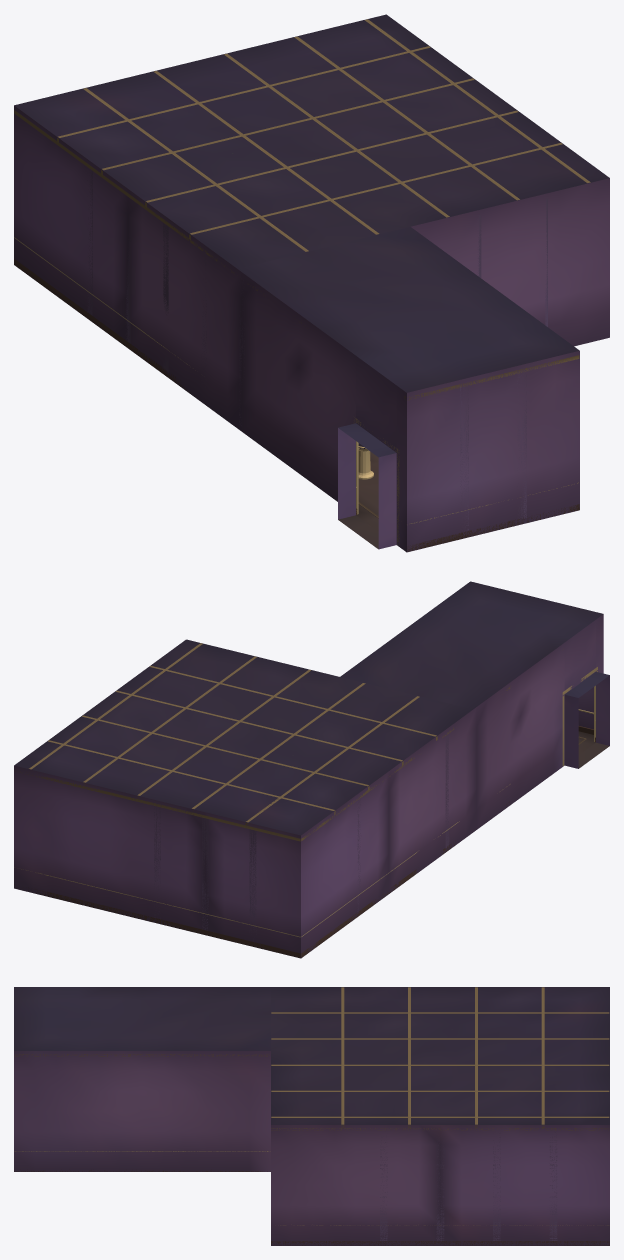
The model's file is prism_hall.glb.
3 renders of one model, top to bottom at view 1: azimuth 30°, elevation 25°; view 2: azimuth 150°, elevation 25°; view 3: azimuth 270°, elevation 25°, orthographic. The views are drawn at different scales.
Parts seen in each view (by area): view 1: ph_shell_m; view 2: ph_shell_m; view 3: ph_shell_m.
Part boxes in pixels (box(x1,y1,x2,y2)): ph_shell_m: box(14, 14, 609, 552); ph_shell_m: box(14, 581, 609, 958); ph_shell_m: box(14, 987, 609, 1245).
Bounding box in the file's own units: 13.32 × 5.22 × 23.2.
